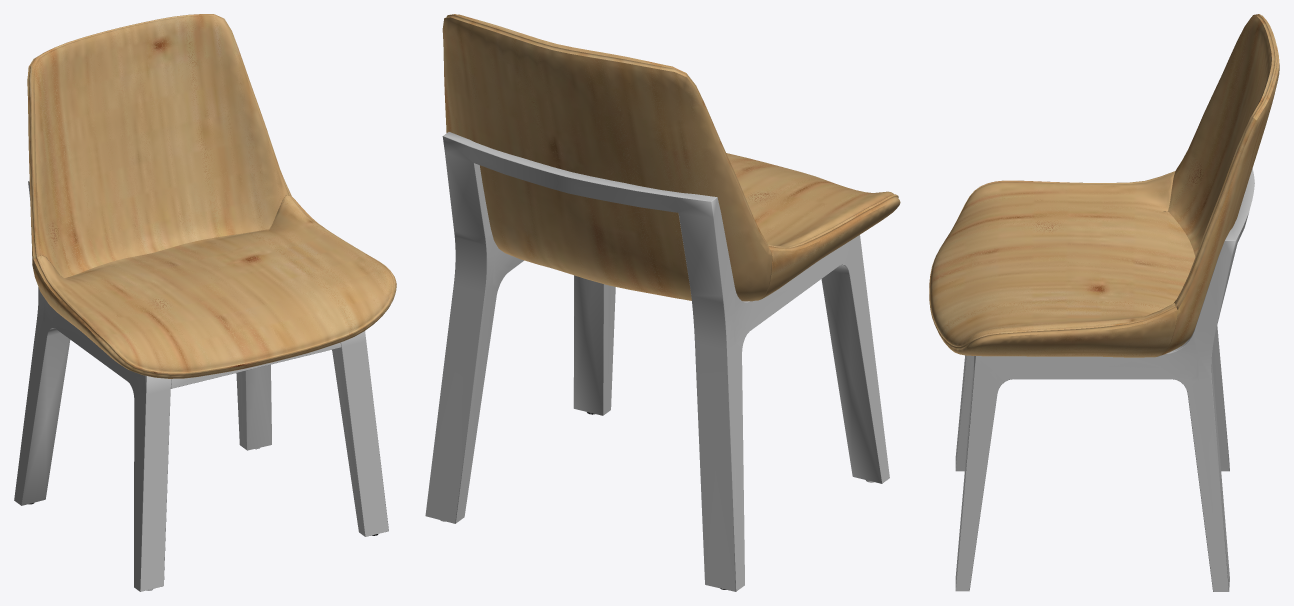
File: final wood chair2.fbx
The picture shows the model from 3 angles, left to right: view 1: azimuth 30°, elevation 25°; view 2: azimuth 150°, elevation 25°; view 3: azimuth 270°, elevation 25°; orthographic projection. The views are drawn at different scales.
Parts seen in each view (by area): view 1: instance_0, instance_3, instance_6; view 2: instance_0, instance_3; view 3: instance_0, instance_3.
Part boxes in pixels (x1=…): instance_0: x1=27, y1=14, x2=396, y2=378; instance_3: x1=14, y1=181, x2=388, y2=591; instance_6: x1=170, y1=342, x2=341, y2=388; instance_0: x1=442, y1=14, x2=900, y2=301; instance_3: x1=425, y1=132, x2=889, y2=591; instance_0: x1=929, y1=14, x2=1279, y2=357; instance_3: x1=955, y1=168, x2=1254, y2=591.
Bounding box in the file's own units: 55.88 × 78.74 × 53.34.
